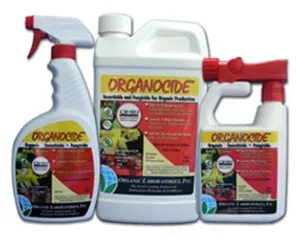Insecticide: (86, 10, 210, 229), (7, 11, 103, 227), (191, 55, 292, 230)
